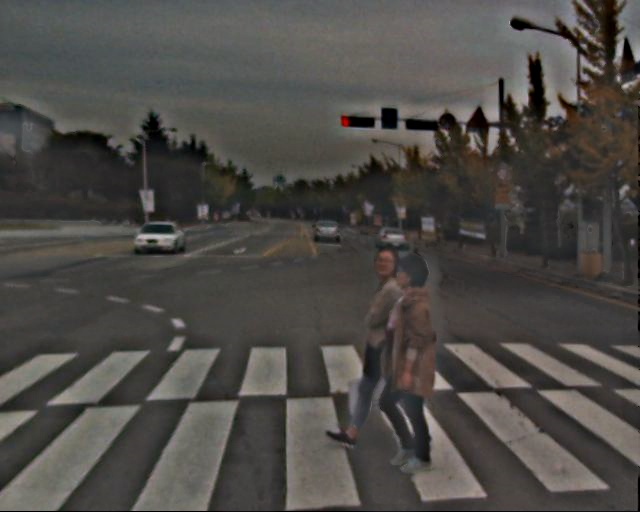person: (368, 257, 455, 469), (352, 239, 423, 445)
